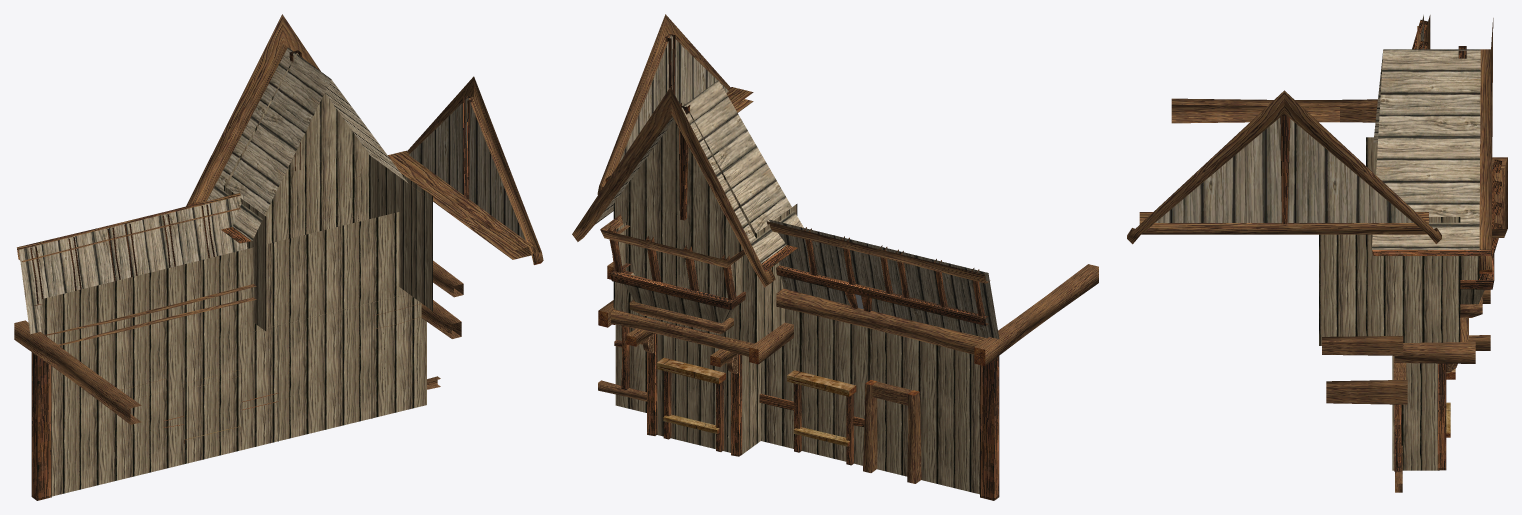
The model's file is LAKETOWN_EXTERIOR_PS_LT_INN74746__GX.obj.
3 renders of one model, left to right at view 1: azimuth 30°, elevation 25°; view 2: azimuth 150°, elevation 25°; view 3: azimuth 270°, elevation 25°, orthographic. The views are drawn at different scales.
Visible parts, largest first — view 1: LT_Inn74746__GX; view 2: LT_Inn74746__GX; view 3: LT_Inn74746__GX.
Part boxes in pixels (box(x1,y1,x2,y2)): LT_Inn74746__GX: box(14, 14, 543, 500); LT_Inn74746__GX: box(572, 14, 1098, 500); LT_Inn74746__GX: box(1127, 15, 1507, 492).
Size of the model in its own units: 1266 by 1132 by 909.
